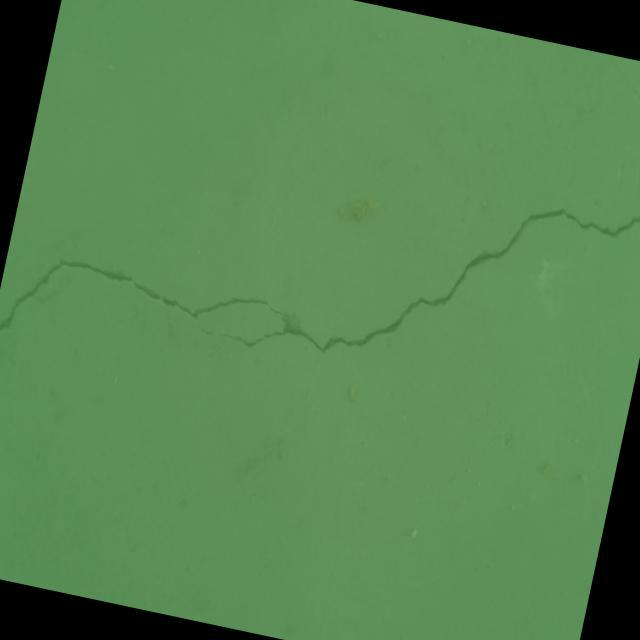crack: (0, 55, 640, 466)
